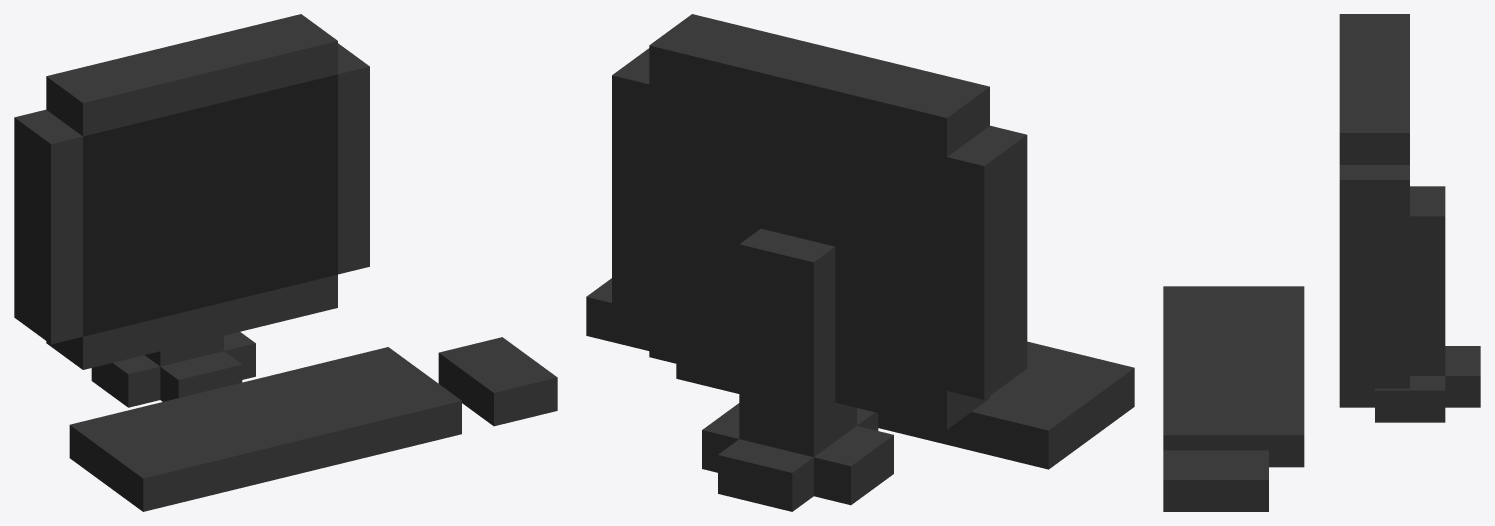
Rendered from computer-a.glb.
3 views of the same model, side by side, from view 1: azimuth 30°, elevation 25°; view 2: azimuth 150°, elevation 25°; view 3: azimuth 270°, elevation 25° (orthographic). The views are drawn at different scales.
Parts seen in each view (by area): view 1: Untitled; view 2: Untitled; view 3: Untitled.
Boxes of the visible parts, x1,y1,x2,y2 form: Untitled: (14, 14, 557, 511); Untitled: (586, 14, 1134, 511); Untitled: (1163, 14, 1480, 511).
Bounding box in the file's own units: 1.3 × 1 × 0.9.
1 material, 1 textured.
